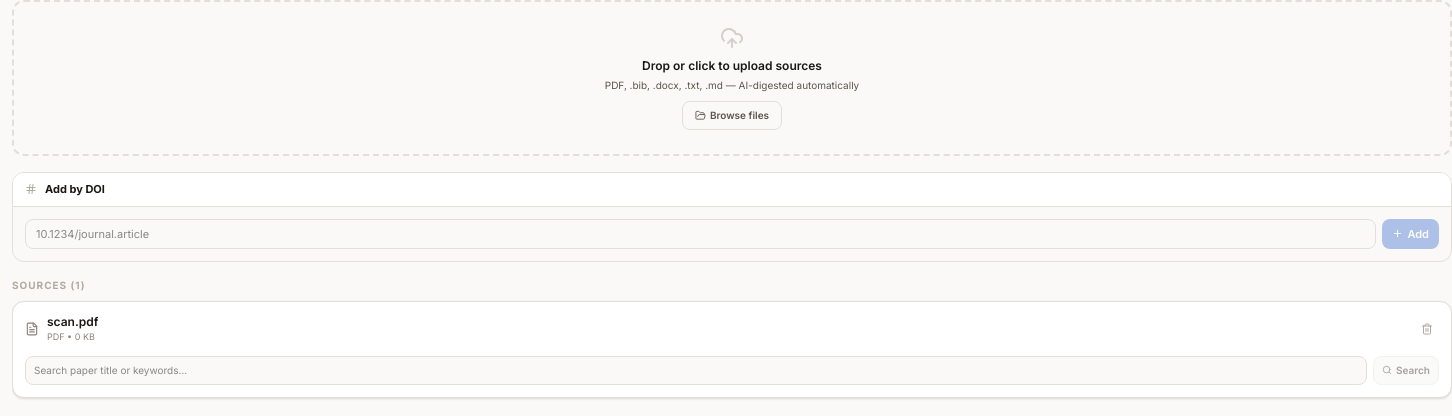
Test: Library › a PDF with no match found offers the manual search and no confirmation
Expected: the button with test id "control-match-pdf" is disabled, 1373,356 -> 1439,384
In the field with placeholder "Search paper title or keywords…": (696, 370) 25,356 -> 1367,384, type "crispr"
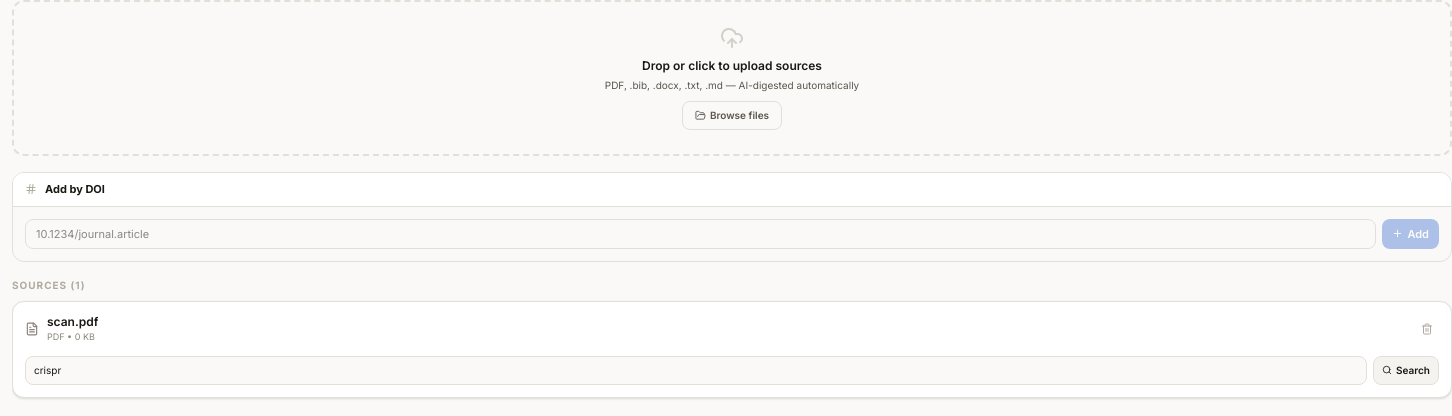
Expected: the button with test id "control-match-pdf" is enabled, 1373,356 -> 1439,384
